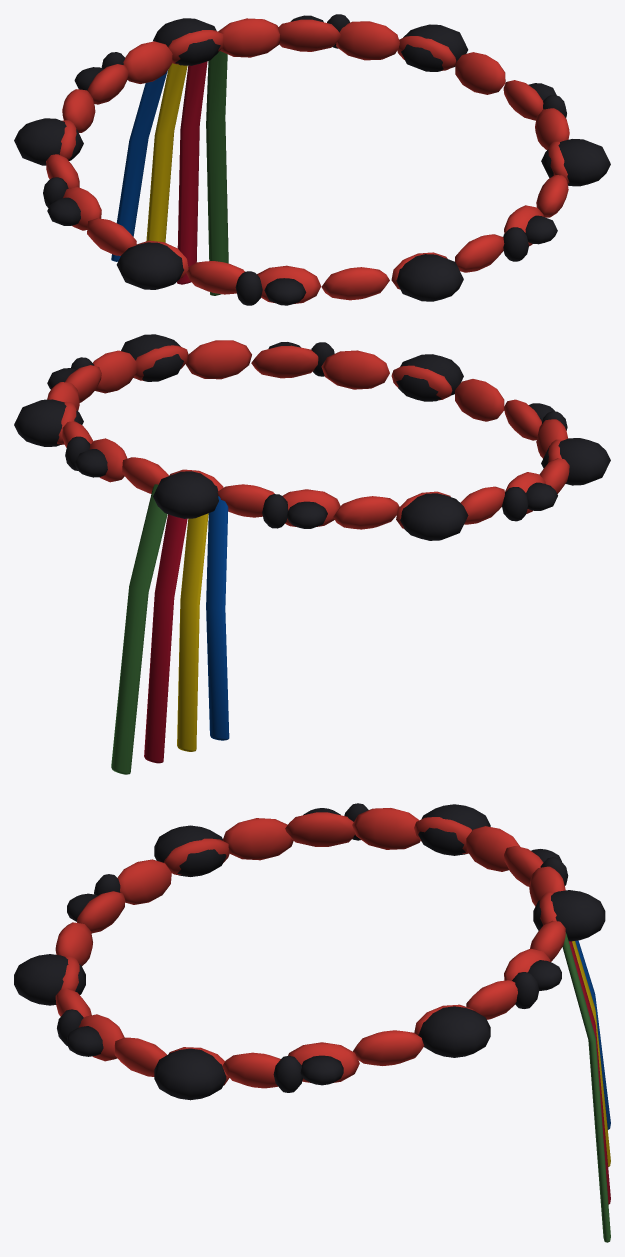
The model's file is hw_wreath.glb.
3 renders of one model, top to bottom at view 1: azimuth 30°, elevation 25°; view 2: azimuth 150°, elevation 25°; view 3: azimuth 270°, elevation 25°, orthographic. The views are drawn at different scales.
Parts seen in each view (by area): view 1: hw_wreath, hw_wreath@hibiscus_f, hw_wreath@flowers_r3, hw_wreath@flowers_r2, hw_wreath@flowers_r1, hw_wreath@flowers_f, hw_wreath@flowers_r0, hw_wreath@oak_a; view 2: hw_wreath, hw_wreath@hibiscus_f, hw_wreath@flowers_r3, hw_wreath@flowers_r2, hw_wreath@flowers_r1, hw_wreath@flowers_r0, hw_wreath@flowers_f, hw_wreath@oak_a; view 3: hw_wreath, hw_wreath@hibiscus_f, hw_wreath@flowers_f, hw_wreath@oak_a, hw_wreath@flowers_r3, hw_wreath@flowers_r2, hw_wreath@flowers_r1, hw_wreath@flowers_r0.
Part boxes in pixels (box(x1,y1,x2,y2)): hw_wreath: box(46, 18, 569, 303); hw_wreath@hibiscus_f: box(14, 18, 610, 301); hw_wreath@flowers_r3: box(206, 51, 228, 295); hw_wreath@flowers_r2: box(177, 61, 207, 284); hw_wreath@flowers_r1: box(146, 63, 187, 242); hw_wreath@flowers_f: box(47, 15, 557, 305); hw_wreath@flowers_r0: box(111, 70, 167, 261); hw_wreath@oak_a: box(43, 14, 566, 305); hw_wreath: box(47, 340, 569, 529); hw_wreath@hibiscus_f: box(14, 334, 610, 540); hw_wreath@flowers_r3: box(111, 484, 167, 774); hw_wreath@flowers_r2: box(144, 514, 187, 763); hw_wreath@flowers_r1: box(177, 513, 208, 751); hw_wreath@flowers_r0: box(206, 496, 229, 740); hw_wreath@flowers_f: box(47, 342, 557, 528); hw_wreath@oak_a: box(65, 342, 567, 528); hw_wreath: box(55, 808, 565, 1088); hw_wreath@hibiscus_f: box(14, 804, 605, 1100); hw_wreath@flowers_f: box(67, 808, 561, 1085); hw_wreath@oak_a: box(57, 803, 568, 1092); hw_wreath@flowers_r3: box(562, 932, 610, 1242); hw_wreath@flowers_r2: box(569, 941, 610, 1204); hw_wreath@flowers_r1: box(572, 941, 610, 1166); hw_wreath@flowers_r0: box(575, 940, 610, 1129).
Bounding box in the file's own units: 0.8298 × 0.465 × 0.7879.
